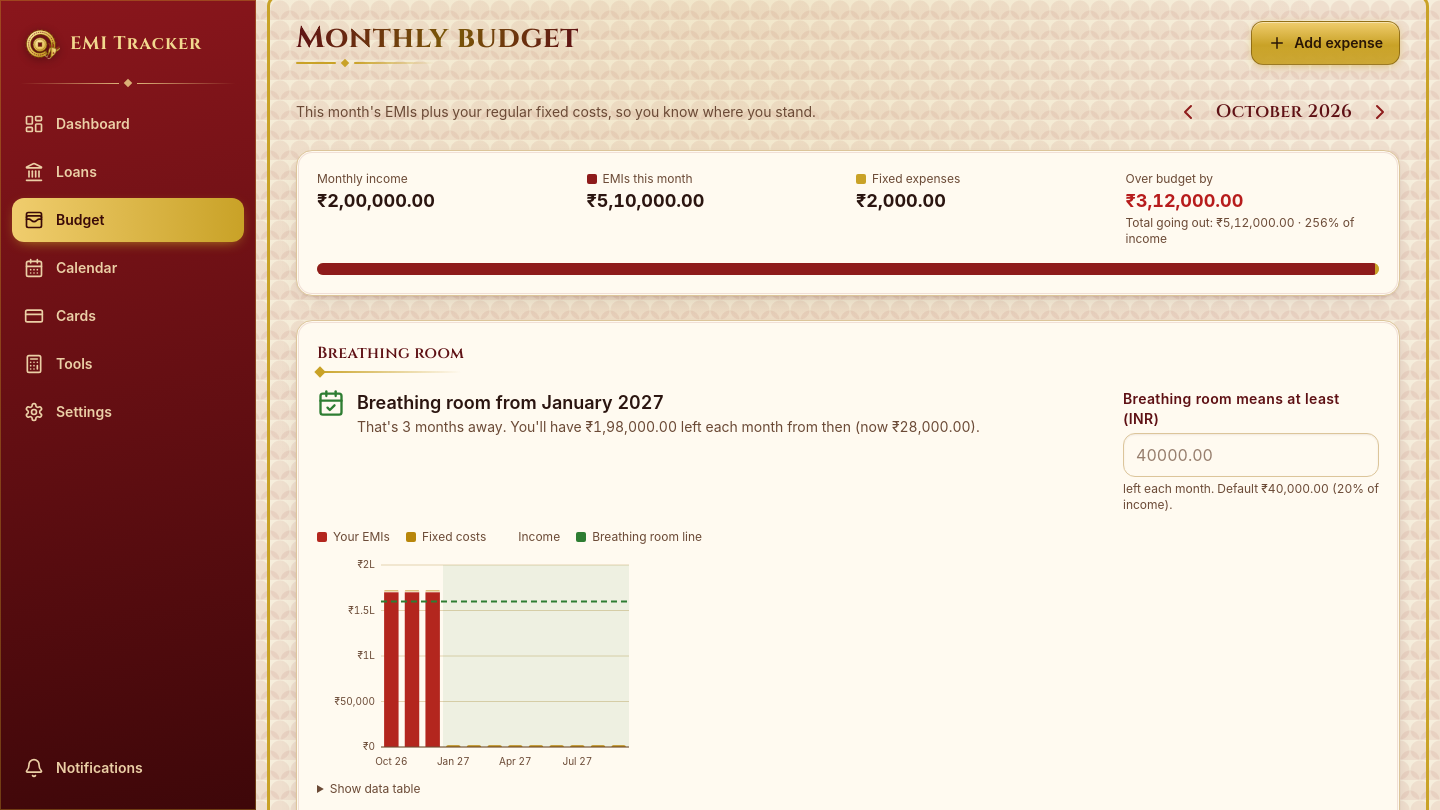
Test: breathing room › says from which month money is left over and which loans end
expect the text "That's 3 months away." is shown: met, box [357,418,510,435]
expect the picture named "Monthly cash flow" is shown: met, box [317,553,637,773]
# A lower target means there is already enough left over.
Type "20000" into the field labelled "Breathing room means at least (INR)" at (1251, 455), box [1123,433,1379,477]
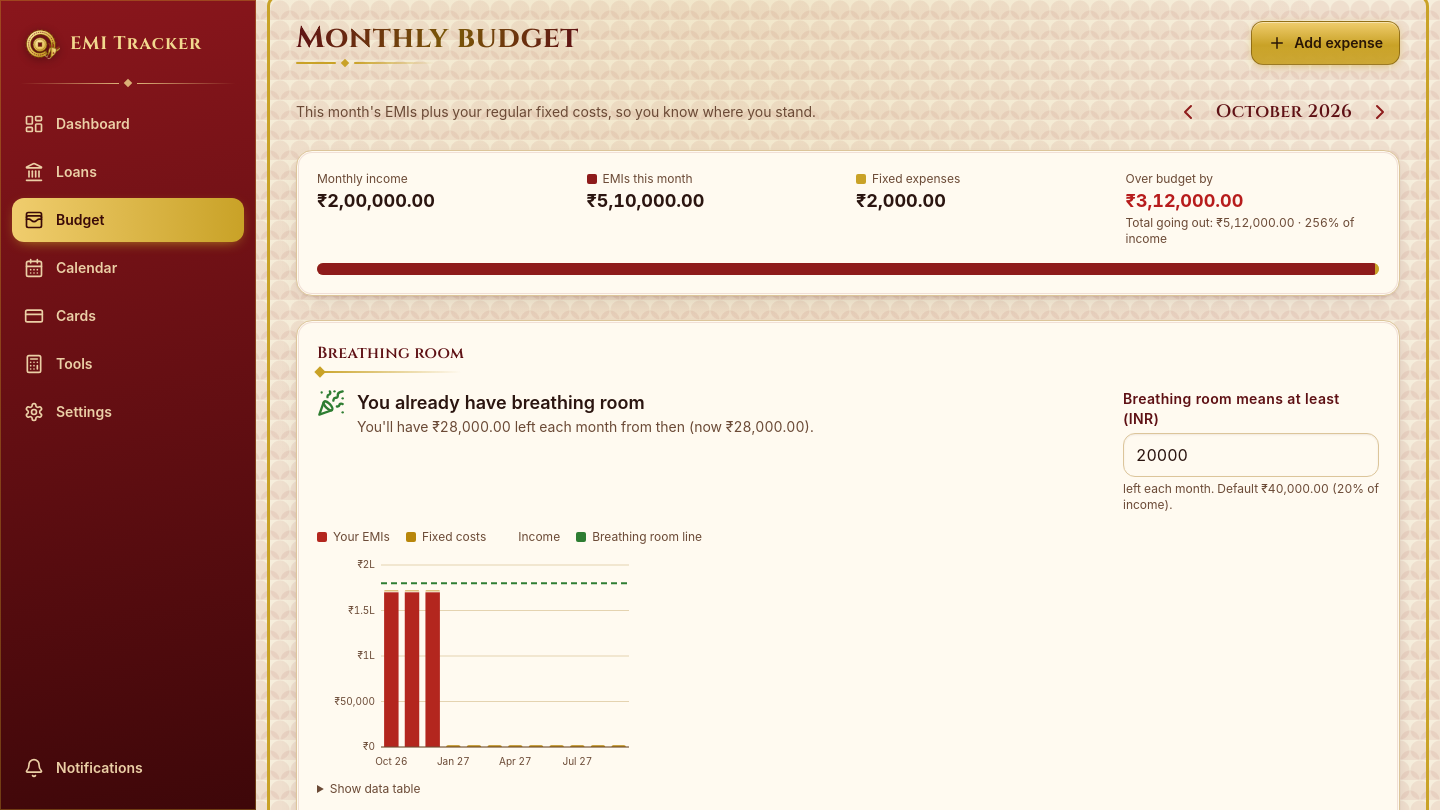
expect the text "You already have breathing room" is shown: met, box [357,392,645,413]
